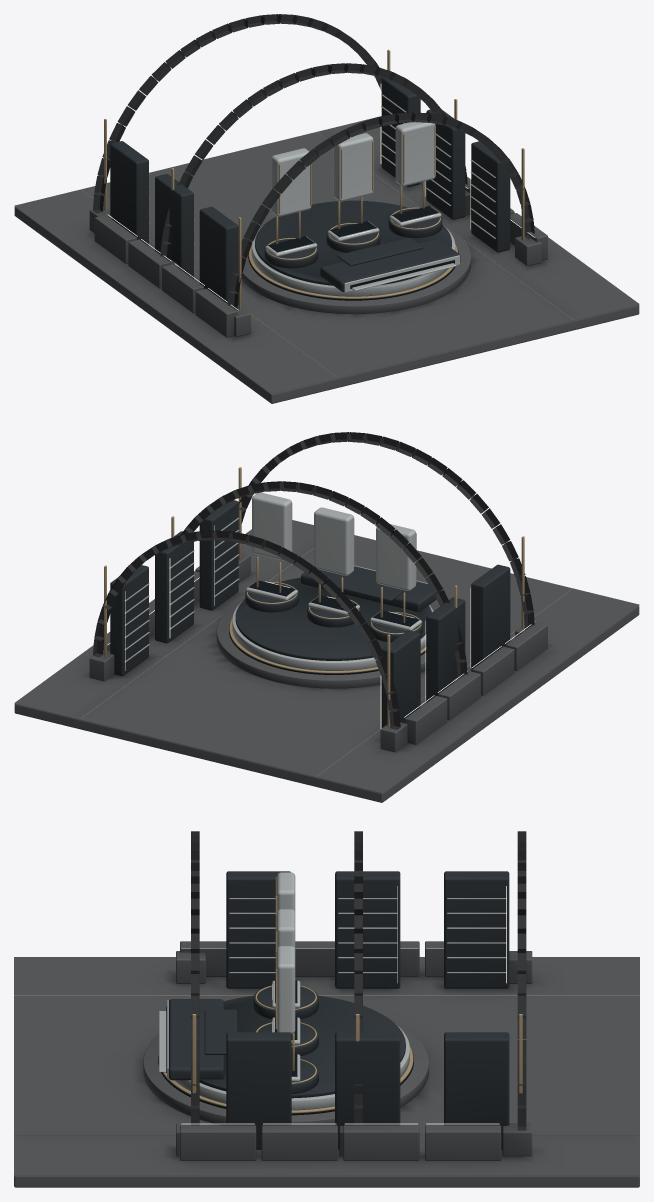
Rendered from 05-workbench.glb.
3 renders of one model, top to bottom at view 1: azimuth 30°, elevation 25°; view 2: azimuth 150°, elevation 25°; view 3: azimuth 270°, elevation 25°, orthographic. The views are drawn at different scales.
Visible parts, largest first — view 1: Baked contact floor.005, Architectural floor.005, Anodized upper deck, Engine foundation, Data archive cabinet.003, Data archive cabinet.002, Data archive cabinet, Data archive cabinet.001, Data archive cabinet.004, Output bay, CARTRIDGE_1, CARTRIDGE_2 (+15 smaller); view 2: Baked contact floor.005, Anodized upper deck, Architectural floor.005, Data archive cabinet, Data archive cabinet.004, Data archive cabinet.003, Data archive cabinet.005, Engine foundation, Data archive cabinet.001, Data archive cabinet.002, CARTRIDGE_1, CARTRIDGE_2 (+14 smaller); view 3: Baked contact floor.005, Architectural floor.005, Data archive cabinet.002, Data archive cabinet.001, Data archive cabinet.003, Data archive cabinet.005, Data archive cabinet.004, Data archive cabinet, Anodized upper deck, Engine foundation, Output bay, Wall base.028 (+20 smaller).
Part boxes in pixels (x1,y1,x2,y2): Baked contact floor.005: [14, 116, 639, 394]; Architectural floor.005: [14, 207, 639, 403]; Anodized upper deck: [255, 200, 451, 285]; Engine foundation: [241, 224, 470, 314]; Data archive cabinet.003: [471, 141, 510, 252]; Data archive cabinet.002: [110, 141, 148, 245]; Data archive cabinet: [199, 206, 238, 305]; Data archive cabinet.001: [155, 174, 193, 278]; Data archive cabinet.004: [426, 109, 465, 219]; Output bay: [320, 238, 460, 291]; CARTRIDGE_1: [333, 133, 373, 201]; CARTRIDGE_2: [395, 121, 435, 186]; Baked contact floor.005: [14, 520, 639, 792]; Anodized upper deck: [235, 577, 431, 660]; Architectural floor.005: [14, 605, 639, 802]; Data archive cabinet: [471, 564, 510, 671]; Data archive cabinet.004: [155, 531, 193, 643]; Data archive cabinet.003: [199, 500, 238, 610]; Data archive cabinet.005: [110, 565, 148, 676]; Engine foundation: [216, 598, 437, 688]; Data archive cabinet.001: [426, 597, 465, 702]; Data archive cabinet.002: [381, 630, 420, 727]; CARTRIDGE_1: [314, 507, 353, 575]; CARTRIDGE_2: [252, 492, 291, 560]; Baked contact floor.005: [14, 957, 639, 1175]; Architectural floor.005: [14, 1175, 639, 1187]; Data archive cabinet.002: [444, 871, 509, 988]; Data archive cabinet.001: [335, 871, 400, 988]; Data archive cabinet.003: [226, 1032, 291, 1149]; Data archive cabinet.005: [444, 1032, 509, 1149]; Data archive cabinet.004: [335, 1032, 400, 1149]; Data archive cabinet: [226, 871, 290, 988]; Anodized upper deck: [199, 995, 405, 1098]; Engine foundation: [143, 1022, 428, 1125]; Output bay: [168, 999, 224, 1080]; Wall base.028: [180, 1125, 256, 1160].
Bounding box in the file's own units: 38 × 18.45 × 46.
